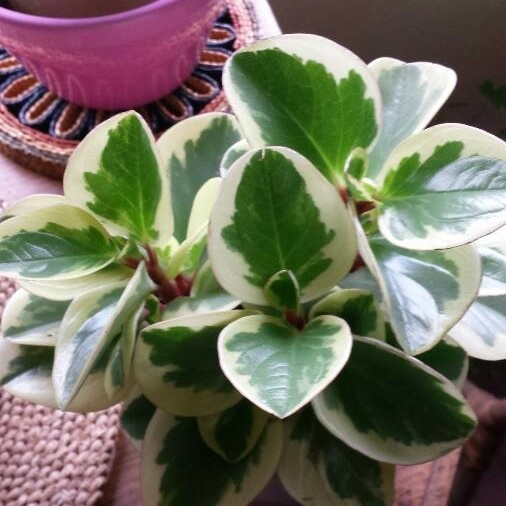obstacle: (15, 43, 492, 488)
